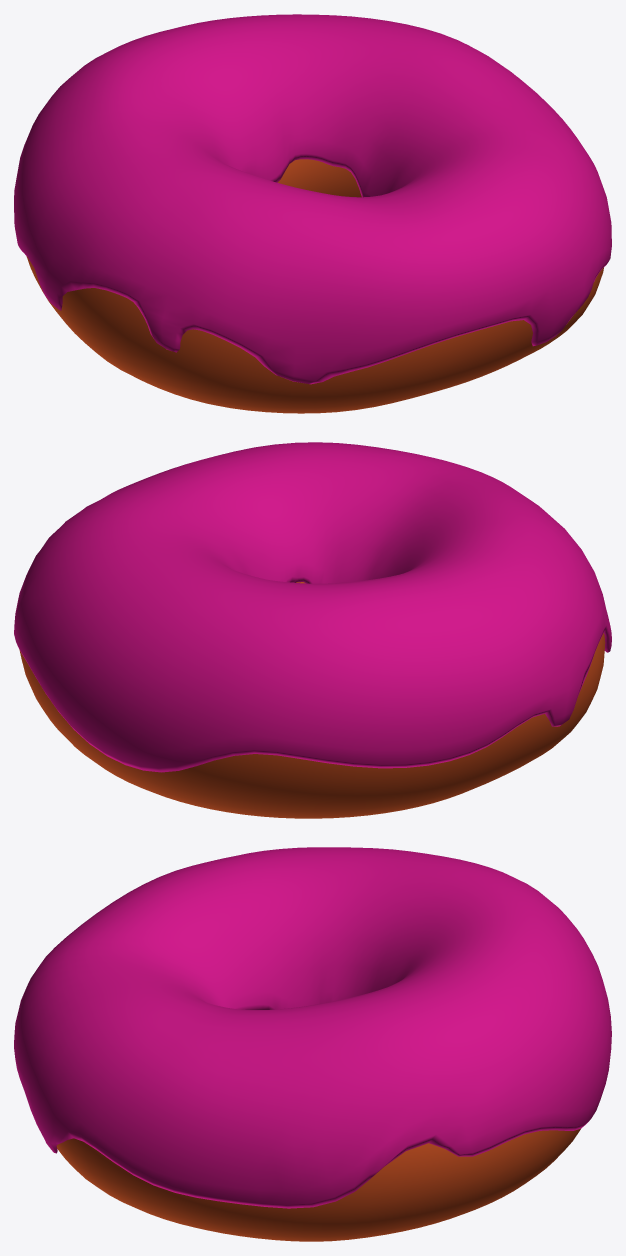
Rendered from blueCube.obj.
3 views of the same model, one above another, from view 1: azimuth 30°, elevation 25°; view 2: azimuth 150°, elevation 25°; view 3: azimuth 270°, elevation 25° (orthographic).
Visible parts, largest first — view 1: icing, donut; view 2: icing, donut; view 3: icing, donut.
Boxes of the visible parts, x1,y1,x2,y2 form: icing: (14,14,611,384); donut: (26,159,603,413); icing: (14,442,611,772); donut: (19,582,605,818); icing: (14,847,611,1208); donut: (56,1128,580,1241).
Bounding box in the file's own units: 2.04 × 0.8487 × 2.04.
